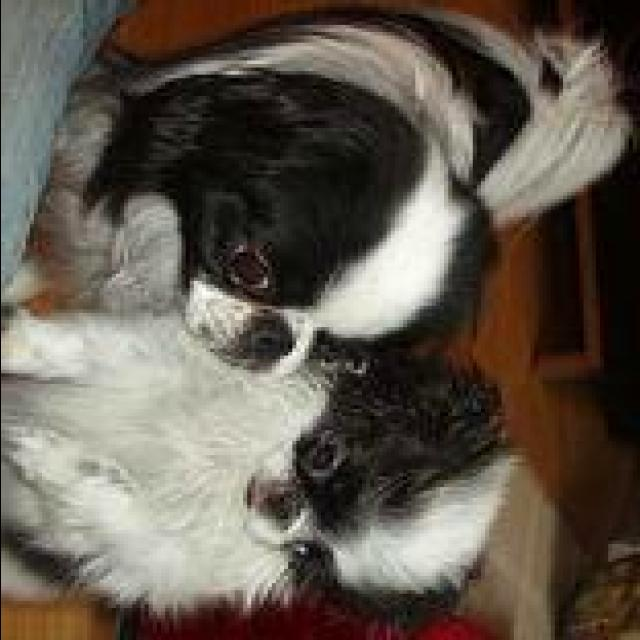husky: (37, 7, 636, 384), (4, 316, 517, 612)
